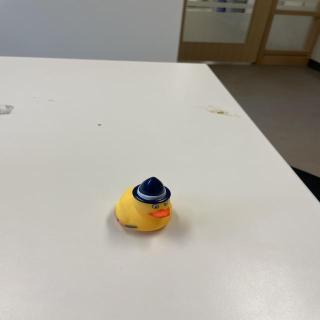duck_specialty: (114, 176, 176, 234)
